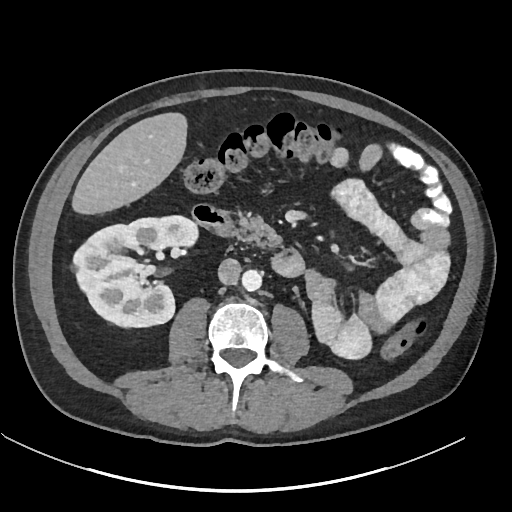Lesion: (68, 261, 82, 277)
